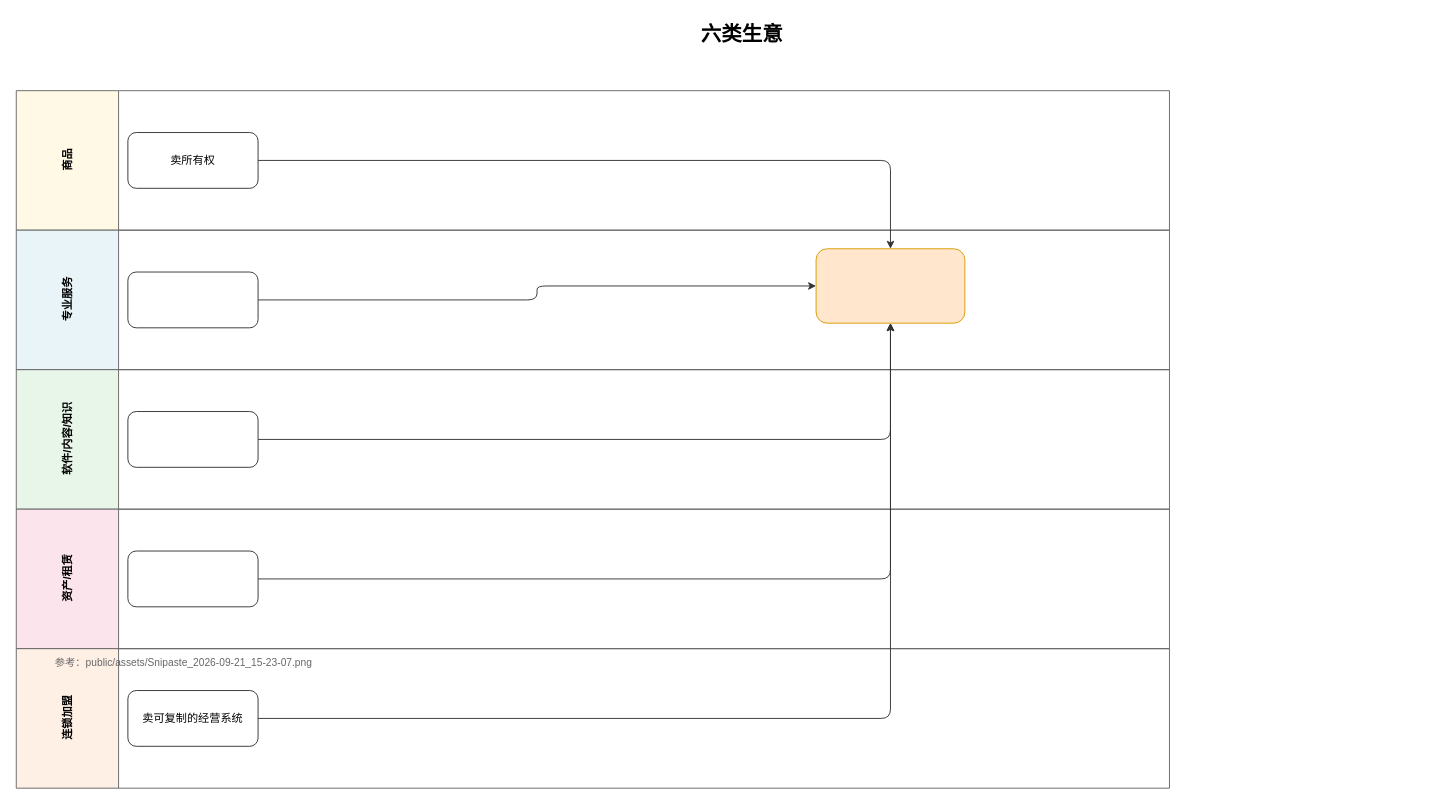
The diagram is 1446 pixels wide and 804 high, and some of its shapes have lost their labels. The centre of each missing label's shape, as x and y in pixels:
"卖使用权+复制权" belongs at point 192,439.
"卖时间+结果" belongs at point 192,299.
"卖钱的时间+风险" belongs at point 192,578.
"平台/渠道：卖中介+流量" belongs at point 890,285.
